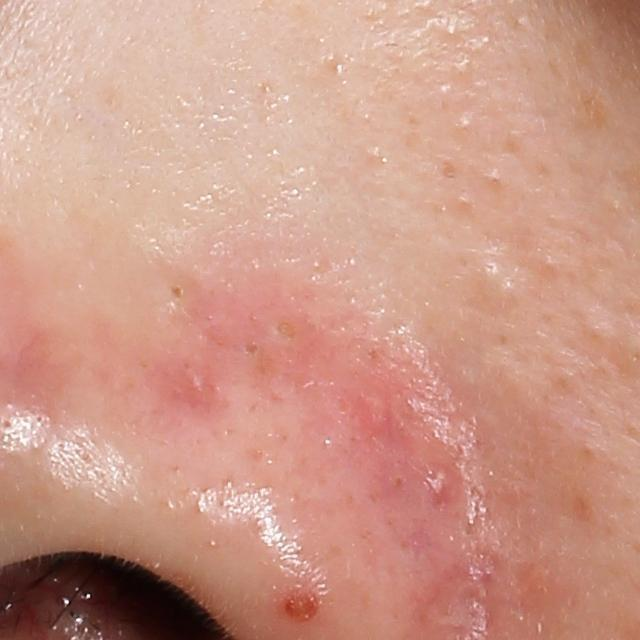comedo: (266, 312, 303, 354), (156, 277, 188, 310), (478, 163, 510, 190), (437, 17, 469, 44), (453, 107, 481, 137), (449, 186, 480, 213), (240, 331, 265, 363), (433, 75, 457, 102), (452, 56, 477, 79), (478, 261, 505, 282)
papule: (425, 464, 460, 499)
